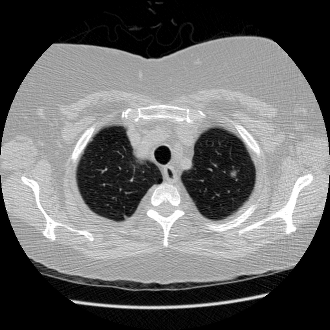nodule: (230, 170, 236, 176)
